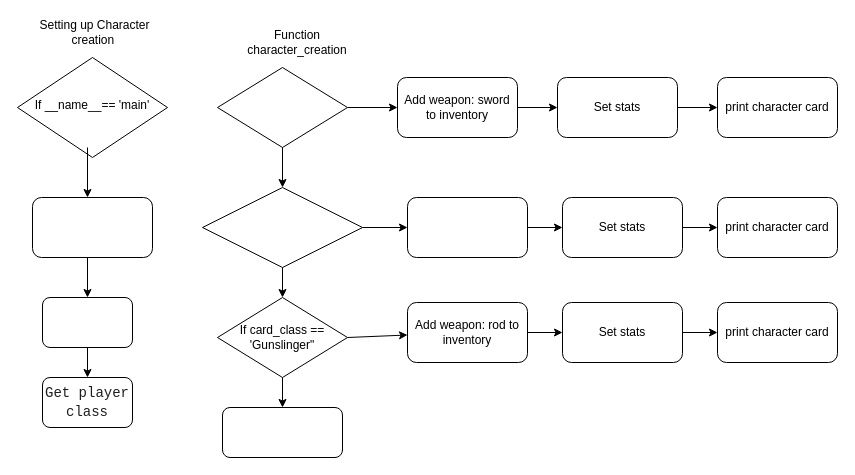
This 855x475 diagram has some shape labels left out. Each missing label, with the centre of its shape:
Add weapon: staff to inventory: (467,227)
Get player name: (87,322)
If card_class == 'Duelist": (282,107)
If card_class == 'Sea Sorcerer": (282,227)
print( 'Welcome to Overseas Escapade!' ): (92,227)
print('Type it exactly!'): (282,432)
